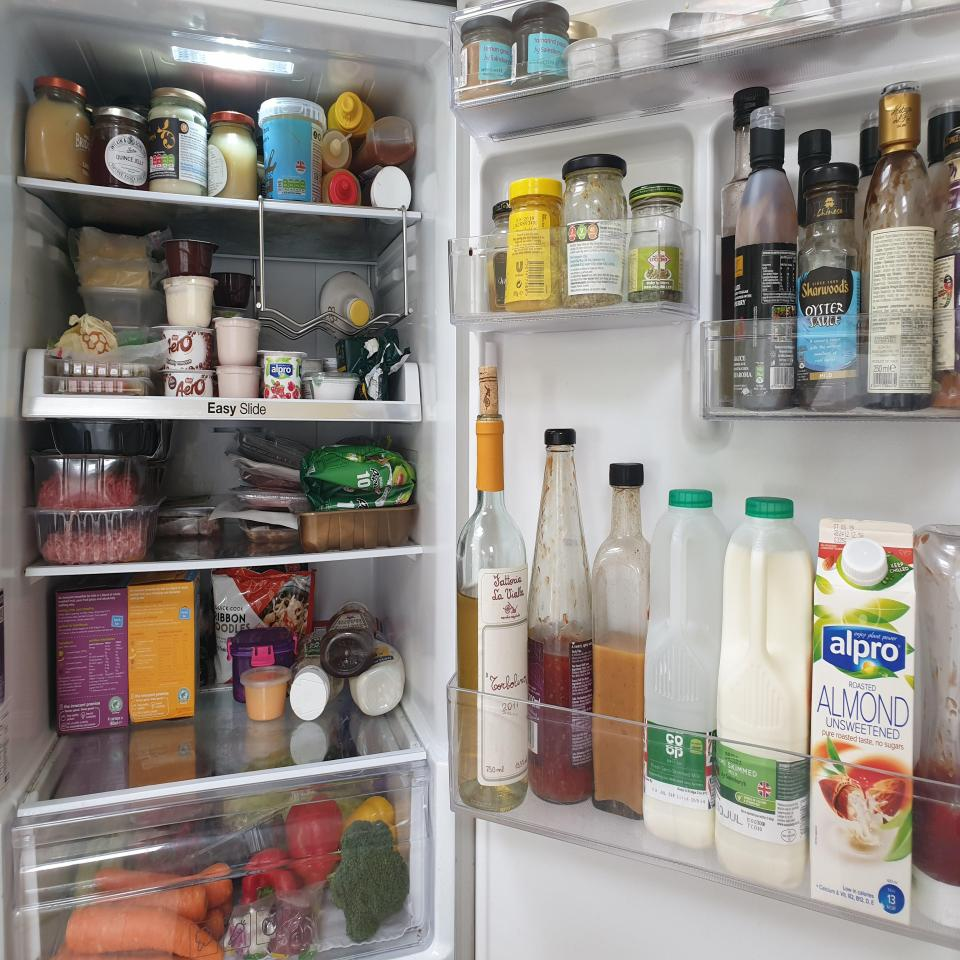Leche: (715, 496, 815, 892), (642, 488, 728, 849)
Zanahoria: (52, 862, 234, 960)
